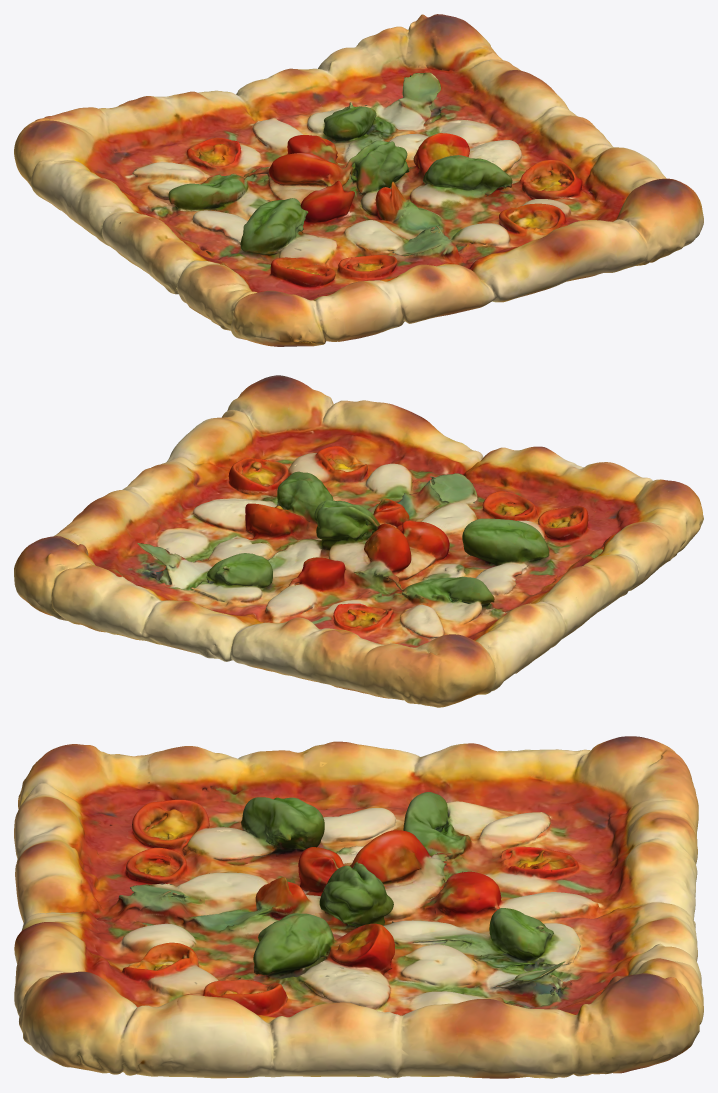
The model's file is Sicilian_Pizza.glb.
3 renders of one model, top to bottom at view 1: azimuth 30°, elevation 25°; view 2: azimuth 150°, elevation 25°; view 3: azimuth 270°, elevation 25°, orthographic. The views are drawn at different scales.
Size of the model in its own units: 2 by 0.2873 by 2.
Materials: 1 (1 with a texture image).
